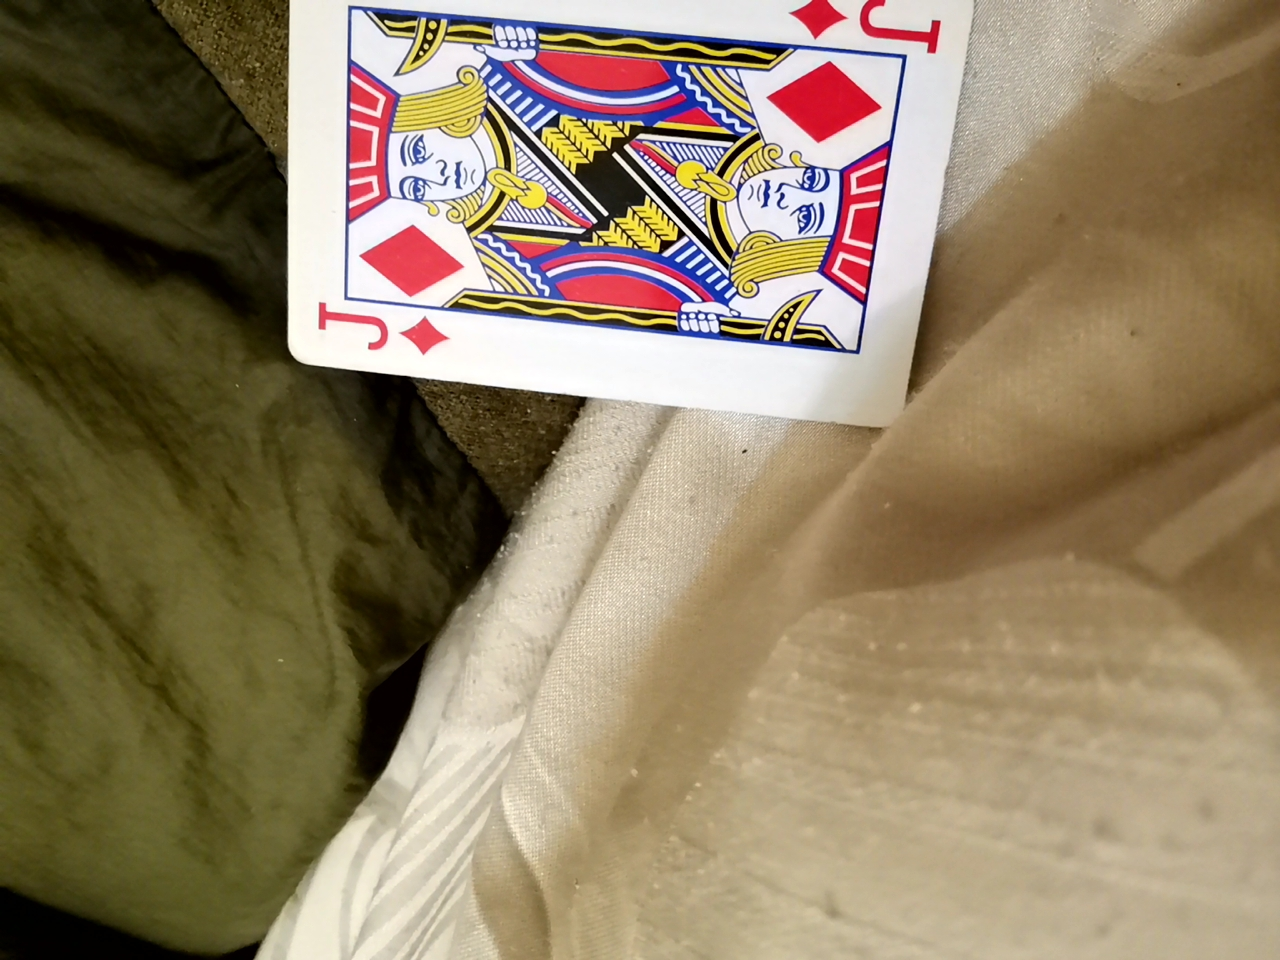fk j: (332, 4, 958, 471)
